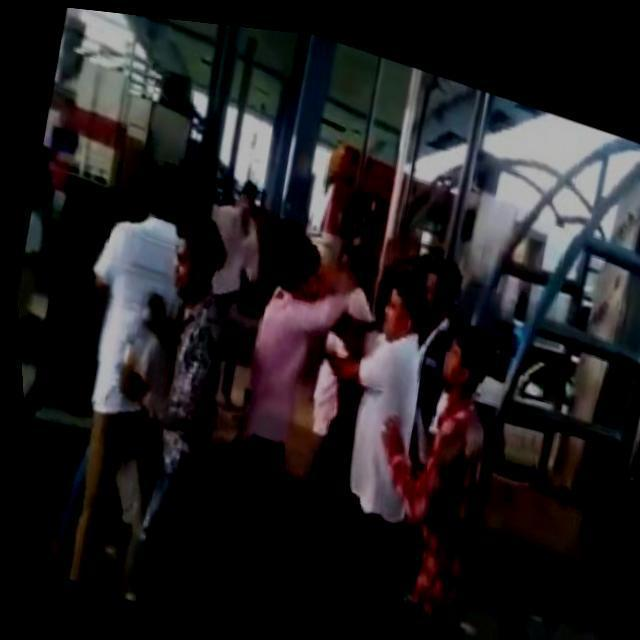fight: (194, 206, 456, 591)
